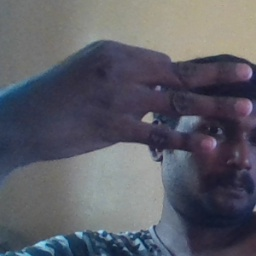K: (17, 40, 253, 158)
